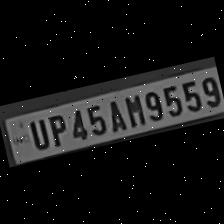4: (64, 105, 89, 144)
5: (82, 100, 110, 140), (178, 77, 204, 115), (158, 82, 183, 119)
9: (196, 72, 224, 110), (140, 86, 166, 123)
A: (101, 95, 128, 134)
M: (120, 90, 146, 130)
P: (43, 110, 70, 148)
U: (23, 114, 51, 153)
